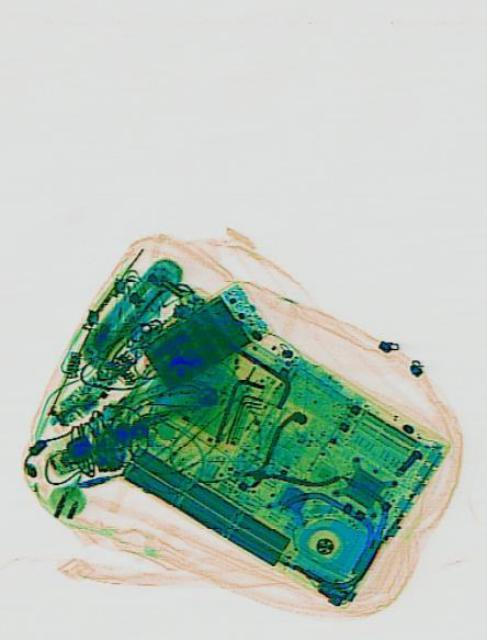Pliers: (228, 400, 339, 520)
